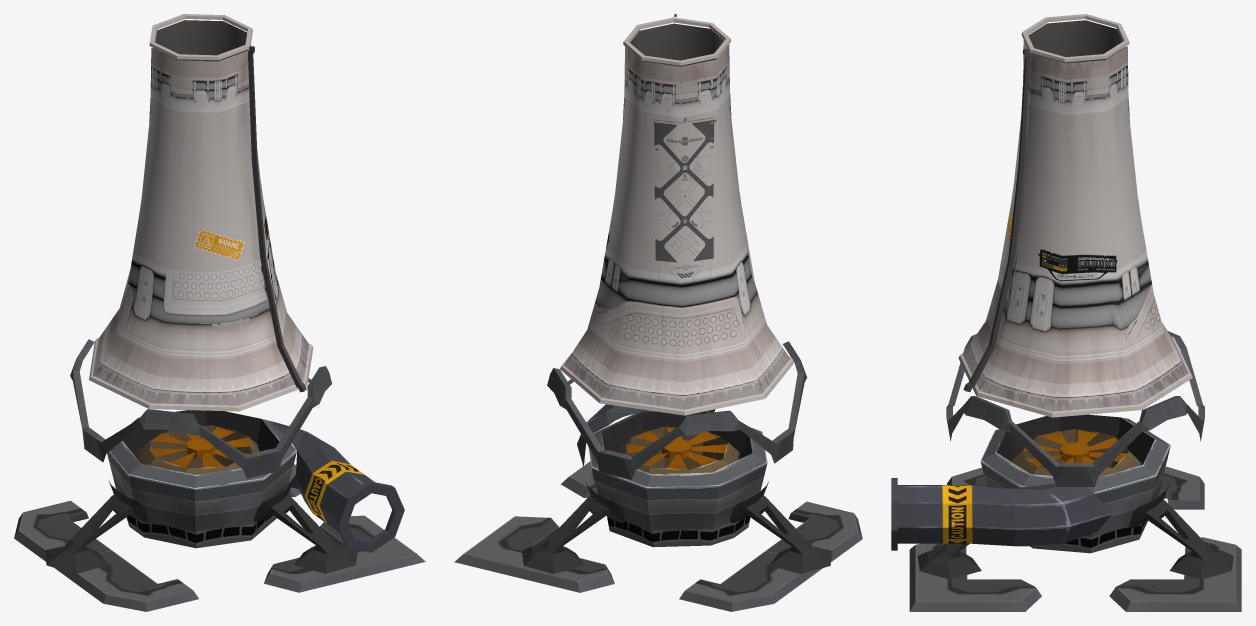
The model's file is chimney-1.gltf.
The picture shows the model from 3 angles, left to right: view 1: azimuth 30°, elevation 25°; view 2: azimuth 150°, elevation 25°; view 3: azimuth 270°, elevation 25°; orthographic projection.
Parts seen in each view (by area): view 1: Plane; view 2: Plane; view 3: Plane.
Part boxes in pixels (x1,y1,x2,y2): Plane: (14, 14, 425, 611); Plane: (454, 14, 862, 611); Plane: (891, 14, 1241, 611).
Bounding box in the file's own units: 18.76 × 30.27 × 19.
1 material, 1 textured.
